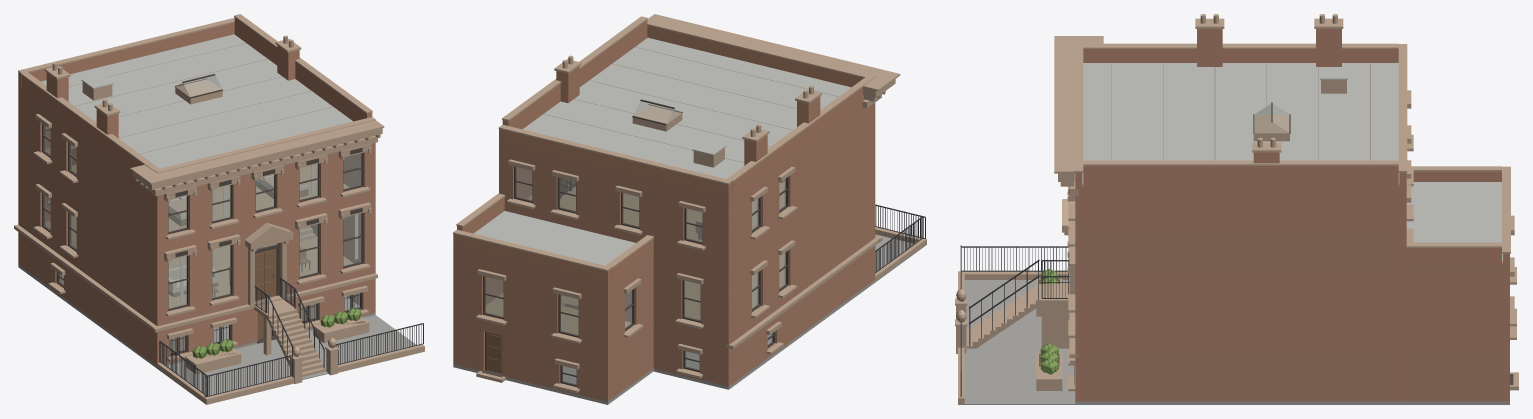
Rendered from pilot-brownstone-end-rowhouse-clay-v004.glb.
The picture shows the model from 3 angles, left to right: view 1: azimuth 30°, elevation 25°; view 2: azimuth 150°, elevation 25°; view 3: azimuth 270°, elevation 25°; orthographic projection. The views are drawn at different scales.
Parts seen in each view (by area): view 1: CLAY_WALL, CLAY_PALE, CLAY_ROOF, CLAY_GLASS, CLAY_FOUNDATION, CLAY_HARDWARE, CLAY_TRIM, CLAY_JOINT, CLAY_FLOOR, CLAY_TIMBER, CLAY_INTERIOR, CLAY_PLANTING; view 2: CLAY_WALL, CLAY_ROOF, CLAY_PALE, CLAY_JOINT, CLAY_GLASS, CLAY_FLOOR, CLAY_TRIM, CLAY_FOUNDATION, CLAY_HARDWARE, CLAY_TIMBER; view 3: CLAY_WALL, CLAY_ROOF, CLAY_PALE, CLAY_JOINT, CLAY_FOUNDATION, CLAY_HARDWARE, CLAY_GLASS, CLAY_PLANTING.
Part boxes in pixels (box(x1,y1,x2,y2)): CLAY_WALL: box(18, 17, 375, 365); CLAY_PALE: box(14, 14, 424, 404); CLAY_ROOF: box(41, 34, 352, 168); CLAY_GLASS: box(44, 75, 361, 353); CLAY_FOUNDATION: box(18, 264, 415, 403); CLAY_HARDWARE: box(159, 225, 423, 397); CLAY_TRIM: box(42, 74, 363, 355); CLAY_JOINT: box(21, 43, 375, 362); CLAY_FLOOR: box(45, 148, 353, 308); CLAY_TIMBER: box(71, 148, 354, 358); CLAY_INTERIOR: box(168, 165, 358, 302); CLAY_PLANTING: box(192, 308, 361, 358); CLAY_WALL: box(453, 20, 875, 401); CLAY_ROOF: box(474, 37, 850, 265); CLAY_PALE: box(453, 14, 926, 392); CLAY_JOINT: box(453, 47, 871, 401); CLAY_GLASS: box(485, 101, 785, 384); CLAY_FLOOR: box(485, 181, 784, 334); CLAY_TRIM: box(482, 99, 788, 386); CLAY_FOUNDATION: box(453, 234, 924, 404); CLAY_HARDWARE: box(499, 178, 925, 357); CLAY_TIMBER: box(487, 180, 784, 373); CLAY_WALL: box(1075, 29, 1509, 401); CLAY_ROOF: box(1082, 63, 1502, 260); CLAY_PALE: box(955, 14, 1518, 404); CLAY_JOINT: box(1082, 63, 1502, 401); CLAY_FOUNDATION: box(961, 280, 1509, 404); CLAY_HARDWARE: box(960, 245, 1074, 396); CLAY_GLASS: box(1254, 104, 1289, 133); CLAY_PLANTING: box(1040, 268, 1058, 374).
Size of the model in its own units: 12.43 by 11.37 by 21.78.
